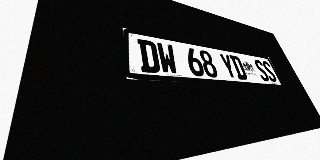6: (184, 47, 206, 77)
8: (198, 49, 219, 78)
D: (137, 39, 161, 73), (229, 55, 248, 80)
S: (253, 59, 271, 82), (261, 60, 278, 82)
W: (156, 42, 179, 75)
Y: (218, 53, 238, 79)
